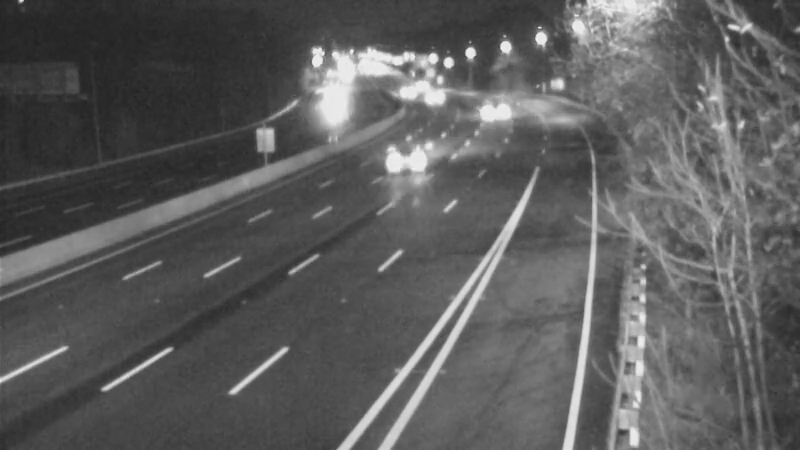vehicle: (411, 70, 461, 120), (376, 63, 426, 113), (461, 86, 511, 136), (386, 125, 436, 175), (300, 74, 350, 124)
